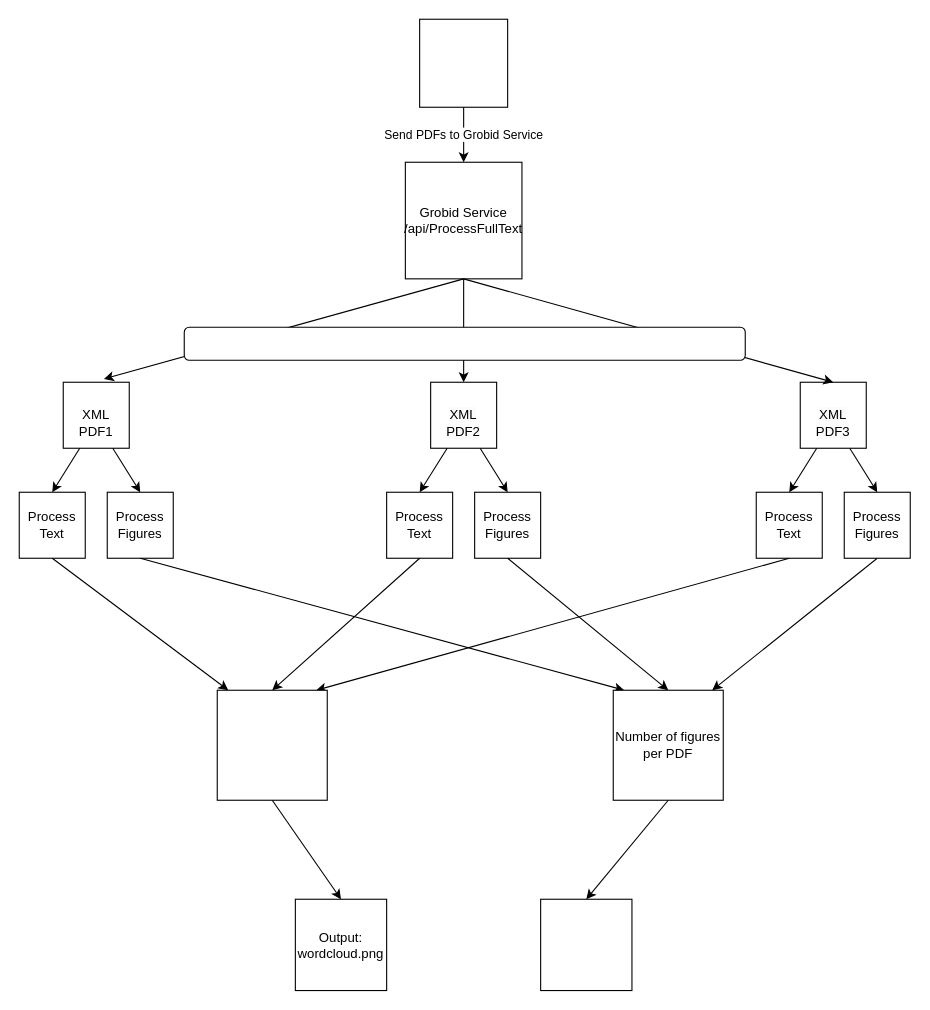
Image size: 930x1010. Some labels were removed from this diagram. Here are the shapes that lost their labels. From the top down, the centre of each, then its label:
At [463,62]: "inputs: PDFs".
At [464,343]: "Generated XMLs".
At [271,744]: "Processed and merged texts".
At [586,944]: "Output: num_figs.png".
